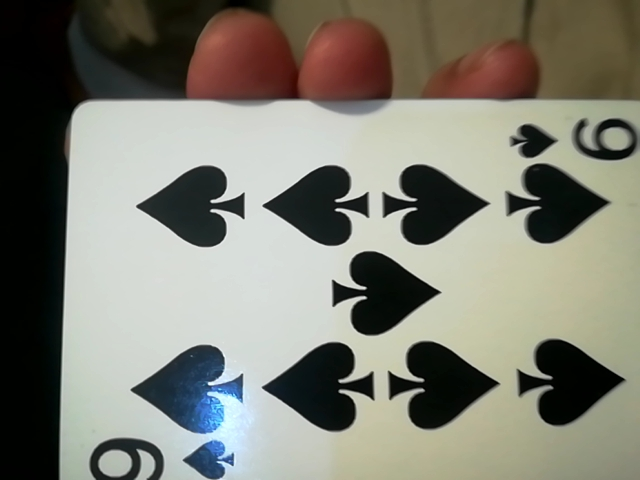ht 9: (46, 107, 636, 478)
